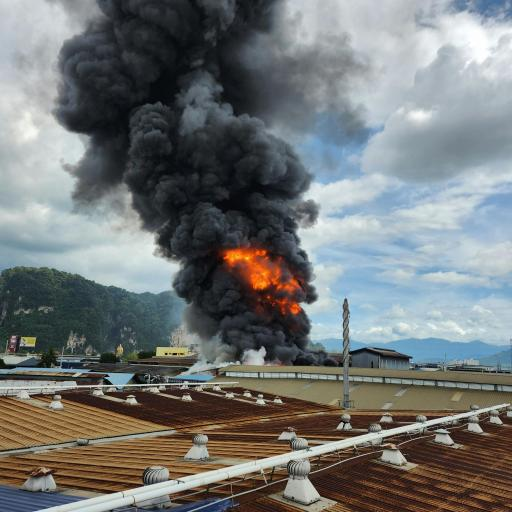smoke: (61, 0, 338, 355)
